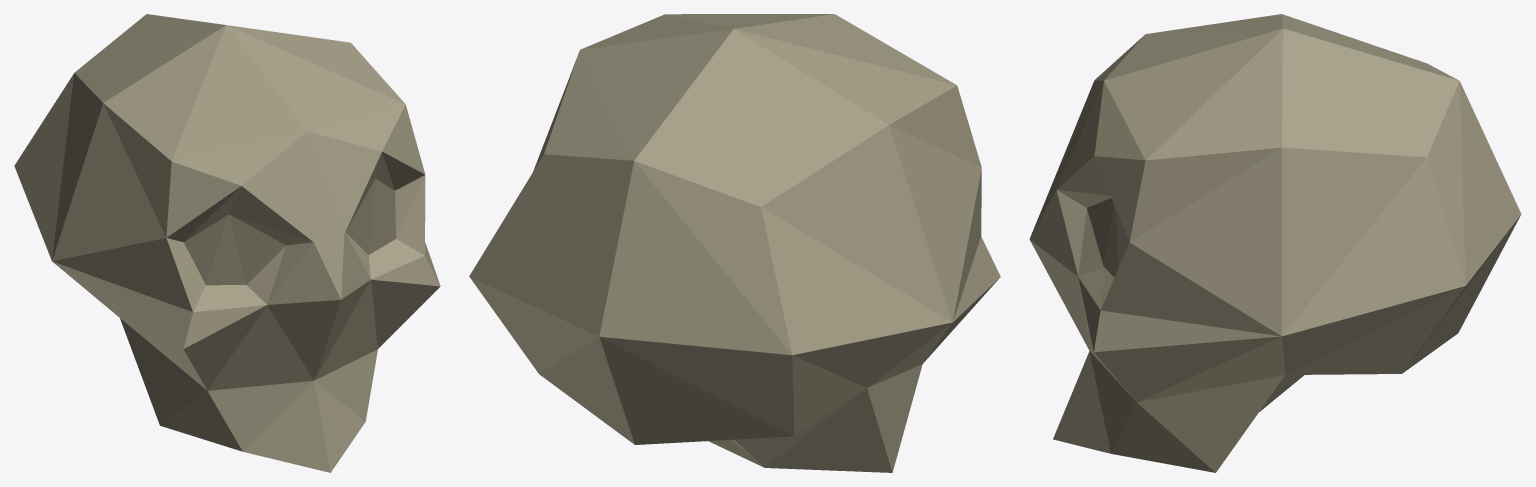
File: skull.fbx
3 views of the same model, side by side, from view 1: azimuth 30°, elevation 25°; view 2: azimuth 150°, elevation 25°; view 3: azimuth 270°, elevation 25° (orthographic). The views are drawn at different scales.
Visible parts, largest first — view 1: skull; view 2: skull; view 3: skull.
Boxes of the visible parts, <box> form: skull: <box>14,14,440,472</box>; skull: <box>469,14,1000,472</box>; skull: <box>1029,14,1521,472</box>.
Size of the model in its own units: 1.31 by 1.33 by 1.45.
